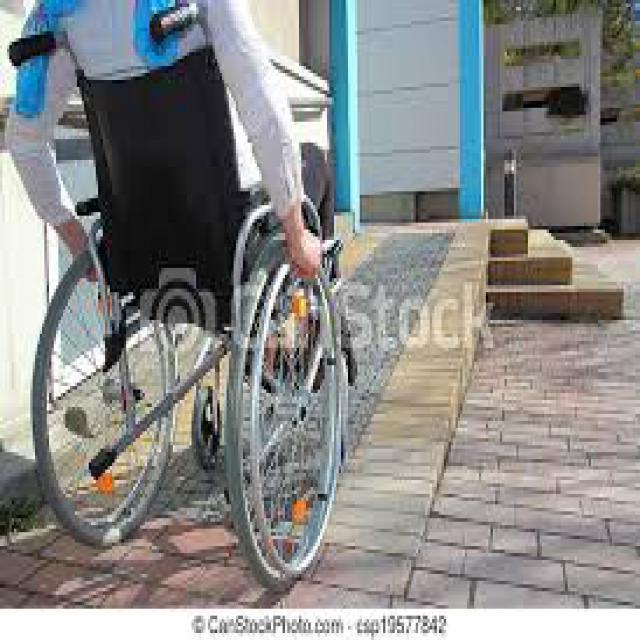wheelchairs: (0, 17, 360, 581)
